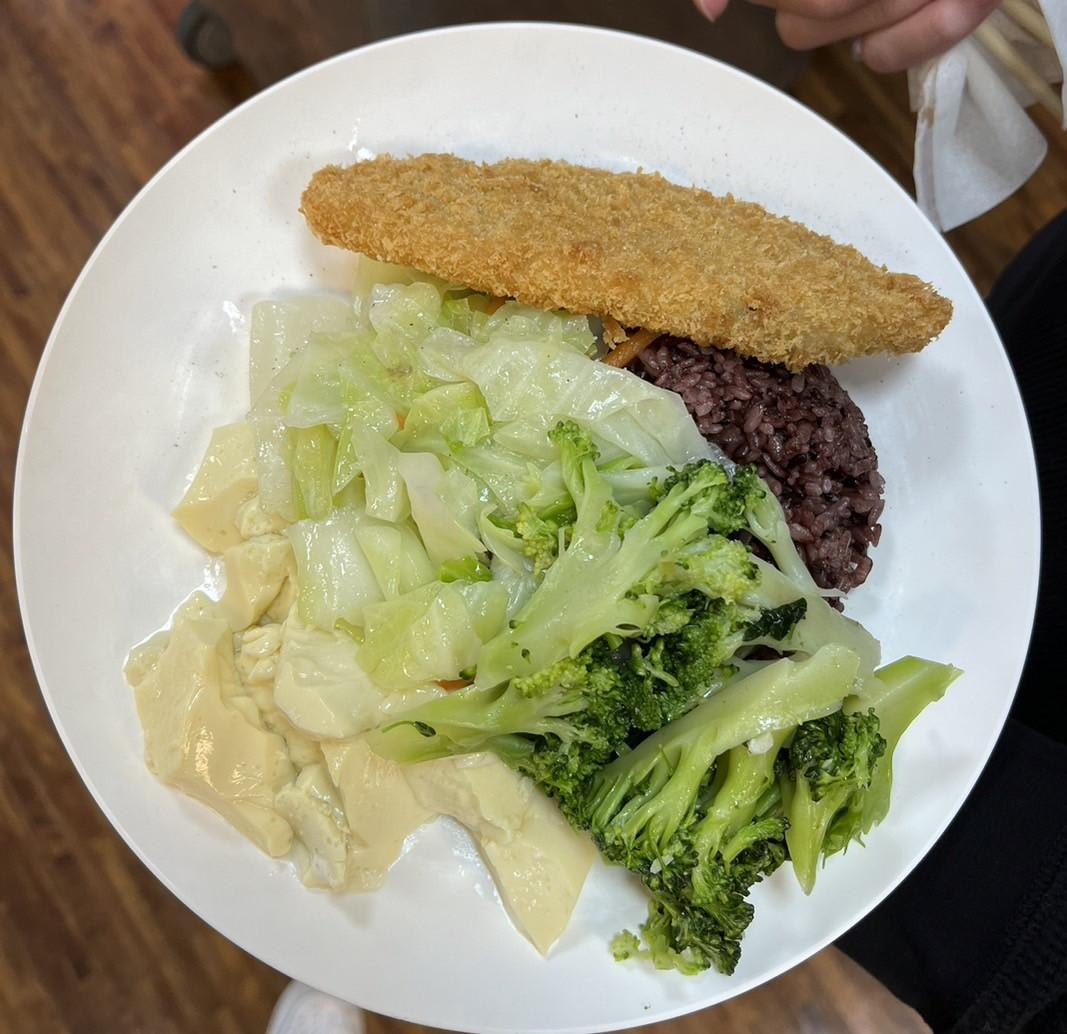big fried chicken leg: (8, 8, 1067, 1034)
braised fish: (608, 310, 882, 588)
braised fish fillet: (388, 438, 958, 976), (127, 410, 602, 942), (248, 270, 712, 670)
braised pork: (290, 143, 958, 374)
